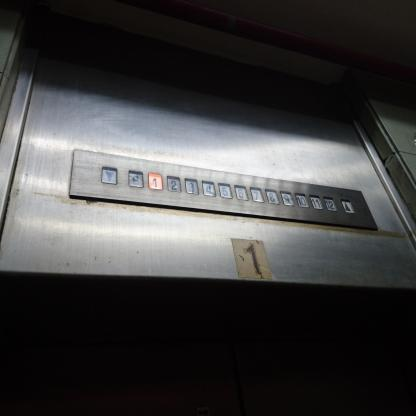1: (147, 171, 163, 191)
10: (295, 191, 309, 209)
11: (309, 193, 323, 211)
12: (323, 195, 338, 212)
2: (166, 174, 182, 194)
3: (184, 176, 199, 196)
4: (201, 178, 216, 198)
5: (218, 182, 232, 199)
6: (234, 183, 248, 201)
7: (250, 185, 264, 203)
8: (265, 187, 279, 205)
9: (280, 189, 294, 207)
G: (128, 168, 144, 188)
down: (100, 164, 118, 185)
up: (340, 197, 354, 214)
